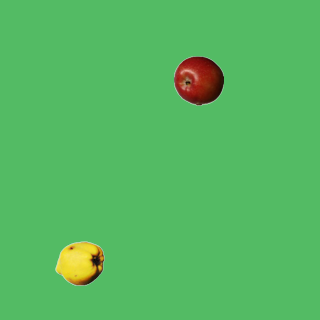Apple Braeburn: (173, 55, 223, 105)
Quince: (54, 238, 104, 288)
